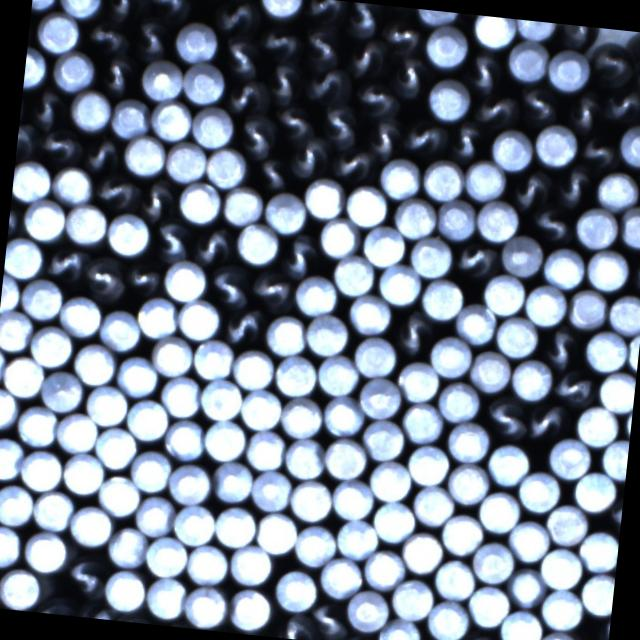tool: (292, 270, 340, 316), (66, 502, 114, 548), (532, 121, 578, 168), (175, 178, 222, 224), (183, 584, 230, 630), (424, 22, 471, 68), (104, 209, 150, 256), (499, 233, 546, 279), (360, 223, 408, 268), (166, 460, 214, 505), (582, 326, 628, 372), (522, 280, 568, 326), (372, 498, 418, 544), (64, 200, 110, 246), (476, 198, 522, 244), (148, 96, 194, 142), (272, 352, 318, 398), (100, 307, 146, 353), (202, 416, 248, 462), (425, 76, 471, 122), (546, 46, 592, 92), (73, 340, 119, 386), (263, 188, 309, 234), (304, 311, 350, 357), (94, 423, 140, 469), (228, 586, 274, 632), (472, 538, 518, 584), (574, 205, 621, 250), (547, 434, 593, 479), (301, 175, 346, 221), (213, 503, 259, 548), (19, 274, 64, 320), (496, 314, 542, 359), (0, 354, 46, 399), (28, 323, 74, 368), (61, 449, 106, 495), (584, 246, 630, 291), (462, 158, 508, 203), (541, 244, 587, 289), (140, 56, 186, 101), (120, 133, 166, 178), (180, 60, 226, 105), (164, 138, 210, 183), (124, 397, 170, 442), (573, 401, 619, 446), (162, 256, 208, 301), (317, 350, 362, 396), (280, 394, 326, 439), (288, 477, 334, 522), (421, 275, 466, 321), (485, 440, 531, 485), (39, 368, 86, 412), (173, 20, 220, 64), (392, 194, 439, 238), (516, 468, 563, 512), (21, 530, 68, 574), (55, 409, 100, 454), (344, 182, 389, 227), (468, 347, 513, 392), (263, 312, 308, 357), (378, 155, 423, 200), (31, 486, 76, 531), (367, 456, 412, 501), (230, 346, 275, 391), (149, 333, 194, 378), (506, 518, 551, 563), (395, 359, 440, 404), (358, 374, 403, 419), (332, 252, 378, 296), (490, 128, 536, 172), (540, 586, 586, 630), (321, 436, 367, 480), (21, 196, 67, 240), (235, 220, 281, 264), (422, 156, 466, 202), (572, 469, 618, 513), (68, 88, 114, 132), (318, 554, 364, 598), (318, 215, 364, 259), (184, 542, 230, 586), (428, 334, 474, 378), (36, 10, 82, 54), (228, 542, 274, 586), (96, 473, 142, 517), (50, 48, 96, 92), (408, 234, 454, 278), (114, 352, 160, 396), (436, 378, 482, 422), (480, 273, 526, 317), (538, 544, 584, 588), (374, 262, 420, 306), (406, 442, 452, 486), (347, 290, 393, 334), (272, 568, 318, 612), (256, 508, 300, 553), (240, 386, 285, 430), (20, 446, 64, 491), (198, 377, 242, 422), (172, 500, 216, 545), (294, 523, 338, 568), (59, 294, 104, 338), (145, 534, 190, 578), (136, 295, 180, 340), (363, 546, 408, 590), (447, 418, 492, 462), (190, 103, 234, 148), (453, 302, 498, 346), (361, 416, 406, 460), (144, 576, 188, 621), (84, 382, 129, 426), (354, 334, 399, 378), (14, 402, 58, 447), (566, 286, 610, 331), (432, 556, 477, 600), (335, 516, 380, 560), (440, 512, 485, 556), (344, 588, 389, 632), (446, 460, 491, 504), (283, 435, 327, 479), (508, 356, 552, 400), (190, 337, 234, 381), (129, 448, 173, 492), (390, 576, 434, 620), (104, 568, 148, 612), (212, 458, 256, 502), (468, 584, 512, 628), (544, 502, 588, 546), (178, 298, 222, 342), (322, 394, 366, 438), (478, 488, 522, 532), (506, 38, 550, 82), (401, 528, 445, 572), (400, 400, 444, 444), (162, 416, 205, 461), (424, 597, 469, 640), (329, 477, 374, 520), (0, 565, 42, 611), (11, 158, 54, 202), (160, 374, 203, 418), (106, 524, 149, 568), (594, 169, 638, 212), (134, 492, 177, 536), (205, 145, 249, 188), (413, 483, 457, 526), (245, 429, 288, 472), (578, 528, 620, 572), (250, 468, 292, 512), (220, 184, 264, 226), (438, 198, 480, 242), (110, 95, 152, 139), (3, 233, 44, 278), (51, 163, 94, 205), (596, 368, 636, 412), (0, 480, 35, 526), (579, 570, 615, 614), (505, 567, 544, 607), (498, 606, 543, 640), (470, 15, 516, 48), (606, 290, 640, 334), (0, 307, 33, 350), (599, 436, 629, 478), (23, 46, 50, 90), (0, 433, 24, 479), (376, 616, 422, 640), (0, 524, 23, 569), (618, 205, 640, 249), (619, 121, 640, 166), (0, 272, 22, 313), (57, 0, 103, 19), (0, 387, 20, 430), (414, 8, 460, 26), (514, 19, 555, 39), (258, 0, 301, 17), (625, 330, 640, 375), (536, 629, 580, 640), (622, 406, 632, 445), (0, 343, 7, 389), (31, 0, 59, 9)
tool_b: (58, 550, 106, 600), (481, 393, 530, 441), (587, 38, 633, 88), (80, 251, 126, 300), (204, 261, 252, 307), (148, 216, 194, 262), (216, 34, 262, 80), (32, 124, 82, 166), (248, 265, 294, 309), (130, 16, 174, 62), (399, 115, 446, 158), (528, 202, 576, 244), (90, 170, 138, 212), (552, 164, 595, 210), (351, 78, 399, 119), (302, 65, 350, 106), (469, 89, 517, 130), (299, 22, 342, 67), (235, 112, 277, 158), (318, 100, 360, 146), (278, 231, 319, 278), (393, 310, 434, 357), (524, 399, 568, 442), (510, 167, 554, 210), (288, 134, 330, 179), (135, 175, 177, 220), (221, 306, 266, 348), (550, 366, 596, 407), (192, 224, 235, 267), (516, 84, 560, 126), (42, 242, 86, 284), (328, 144, 374, 184), (27, 86, 68, 130), (81, 16, 126, 56), (452, 240, 496, 280), (264, 59, 303, 104), (390, 54, 429, 99), (346, 36, 387, 78), (542, 326, 582, 369), (465, 49, 504, 93), (96, 54, 136, 96), (575, 132, 618, 171), (222, 76, 266, 114), (307, 601, 349, 640), (447, 120, 486, 161), (601, 84, 640, 125), (80, 133, 121, 172), (258, 20, 300, 58), (274, 104, 316, 142), (339, 1, 382, 38), (212, 0, 256, 36), (381, 16, 421, 54), (364, 115, 401, 156), (568, 89, 604, 131), (269, 609, 315, 640), (125, 257, 163, 294), (254, 156, 290, 192), (31, 596, 83, 616), (554, 23, 598, 46), (104, 0, 147, 22), (301, 0, 342, 22), (15, 121, 37, 162), (74, 601, 118, 620), (144, 0, 188, 18), (7, 200, 23, 240), (627, 256, 640, 295), (458, 632, 500, 640), (632, 54, 640, 95)
